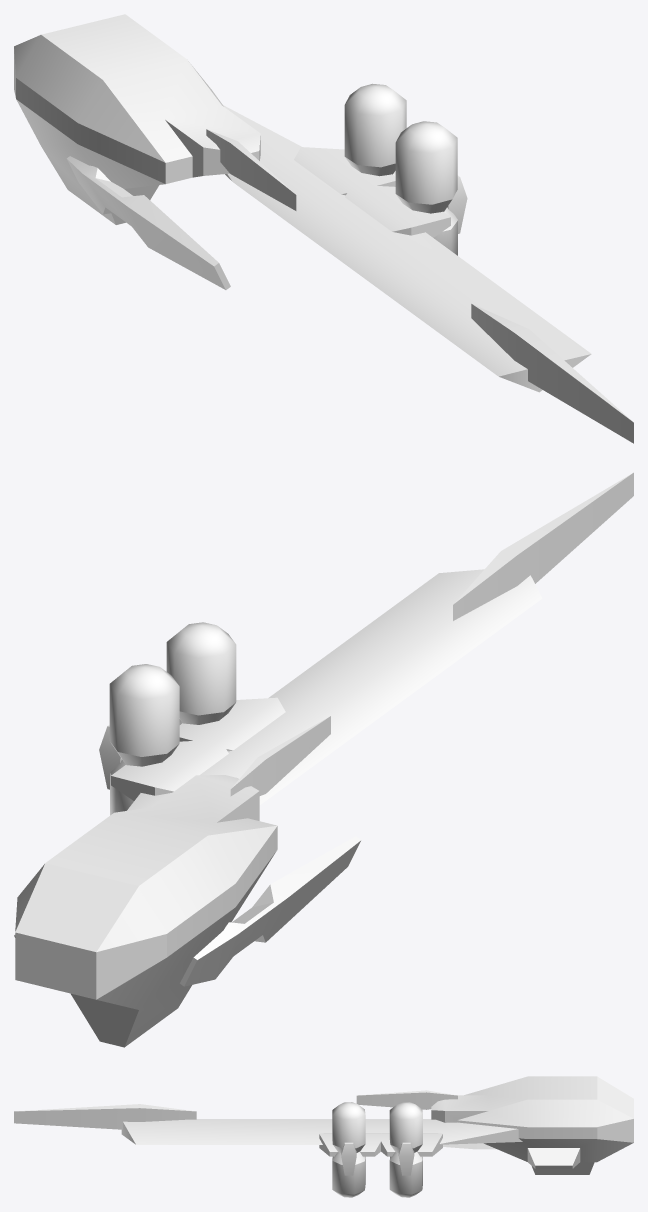
The model's file is hgn_flagship_seeker_sensor_01_t3.glb.
3 views of the same model, one above another, from view 1: azimuth 30°, elevation 25°; view 2: azimuth 150°, elevation 25°; view 3: azimuth 270°, elevation 25° (orthographic). The views are drawn at different scales.
Visible parts, largest first — view 1: hgn_fs_seeker_sensor_01_LOD0; view 2: hgn_fs_seeker_sensor_01_LOD0; view 3: hgn_fs_seeker_sensor_01_LOD0.
Part boxes in pixels (x1,y1,x2,y2): hgn_fs_seeker_sensor_01_LOD0: (14, 14, 633, 443); hgn_fs_seeker_sensor_01_LOD0: (14, 472, 633, 1047); hgn_fs_seeker_sensor_01_LOD0: (14, 1076, 633, 1197).
Size of what is drawn, in the model's own units: 0.8934 by 0.7125 by 3.81.
Materials: 1 (1 with a texture image).
